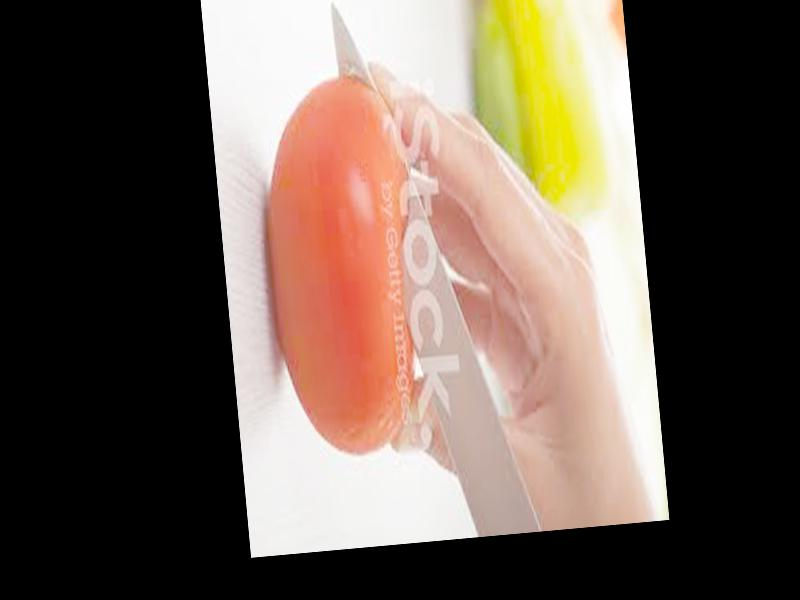Tomato: (250, 71, 431, 465)
